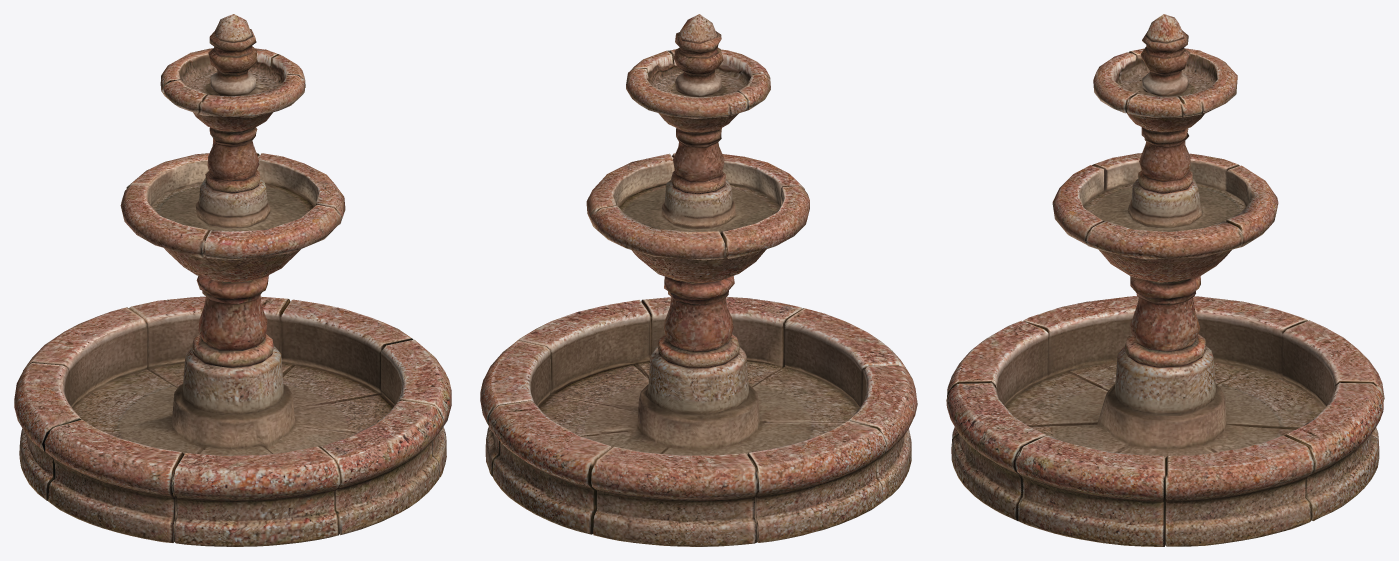
The model's file is tripo_convert_e6cd835e-5f59-4760-86ae-6b70082f56f1.fbx.
3 renders of one model, left to right at view 1: azimuth 30°, elevation 25°; view 2: azimuth 150°, elevation 25°; view 3: azimuth 270°, elevation 25°, orthographic.
Parts seen in each view (by area): view 1: tripo_node_e6cd835e; view 2: tripo_node_e6cd835e; view 3: tripo_node_e6cd835e.
Boxes of the visible parts, bbox=[...] form: tripo_node_e6cd835e: bbox=[14, 14, 451, 546]; tripo_node_e6cd835e: bbox=[480, 14, 917, 546]; tripo_node_e6cd835e: bbox=[946, 14, 1384, 546].
Size of the model in its own units: 0.8767 by 0.981 by 0.8782.
1 material, 1 textured.
